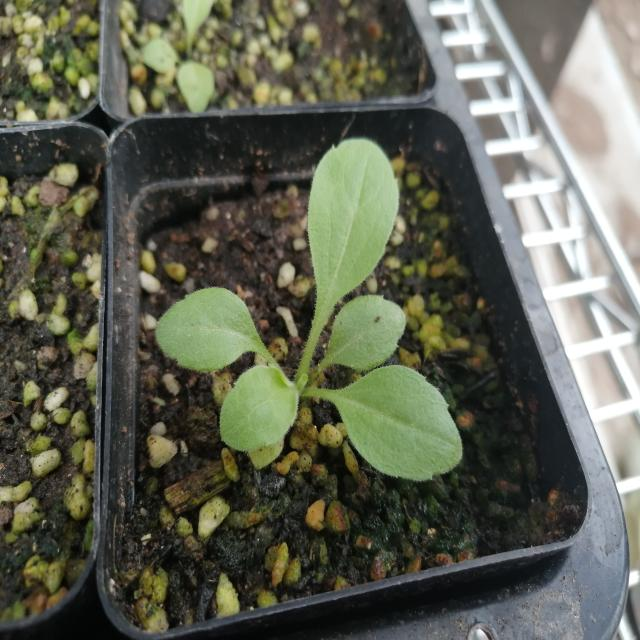horseweed: (152, 136, 472, 496)
